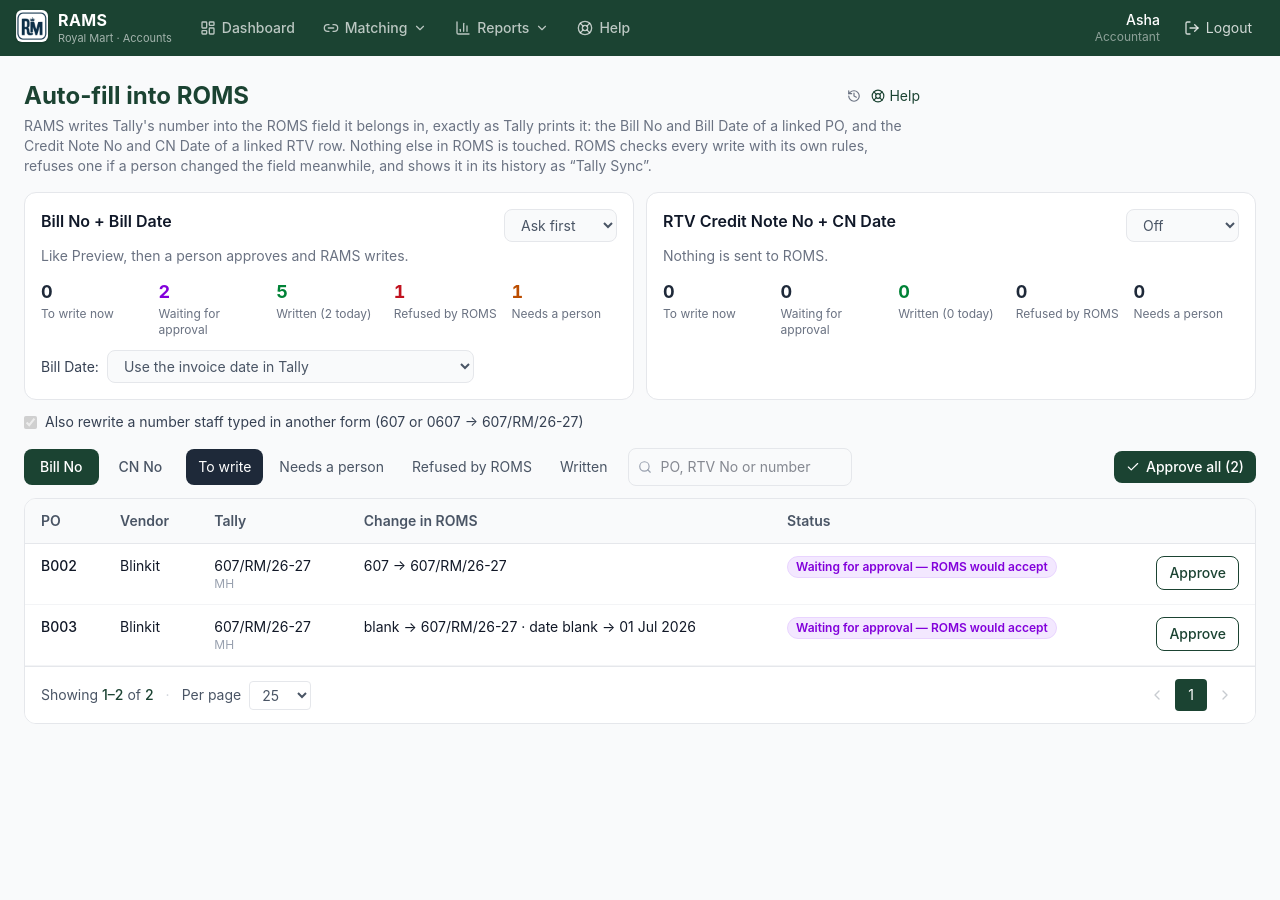
Auto-fill › a refusal shows ROMS's words and can be tried again; Written says who approved
The width and height of the screenshot is (1280, 900).
Click the tab "Refused by ROMS". click: coordinates (472, 467)
box: [400, 449, 544, 485]
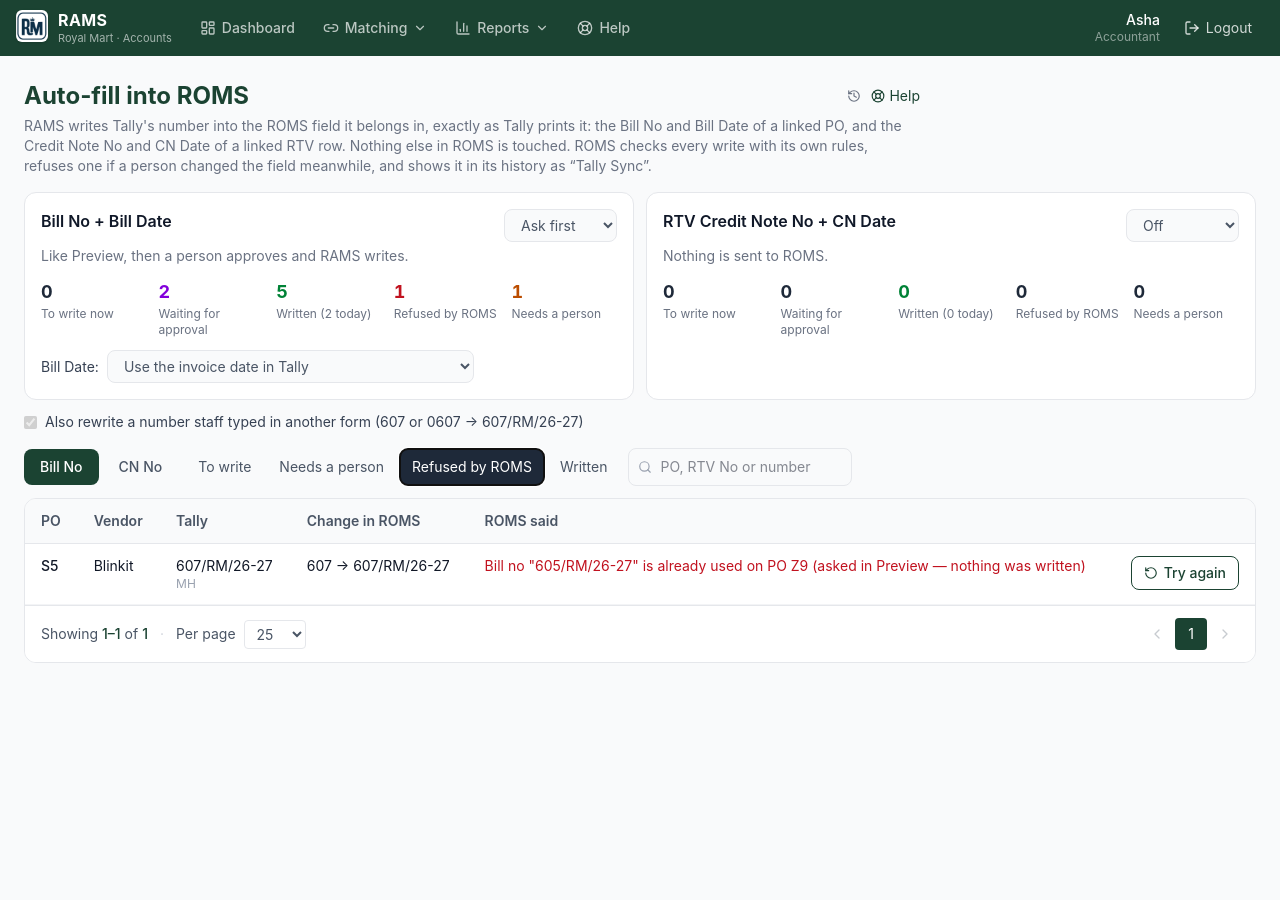
Now the text "already used on PO Z9 (asked in Preview — nothing was written)" is shown, box [485, 557, 1086, 574]
Click the button "Try again". click: coordinates (1185, 573)
box: [1131, 556, 1239, 590]
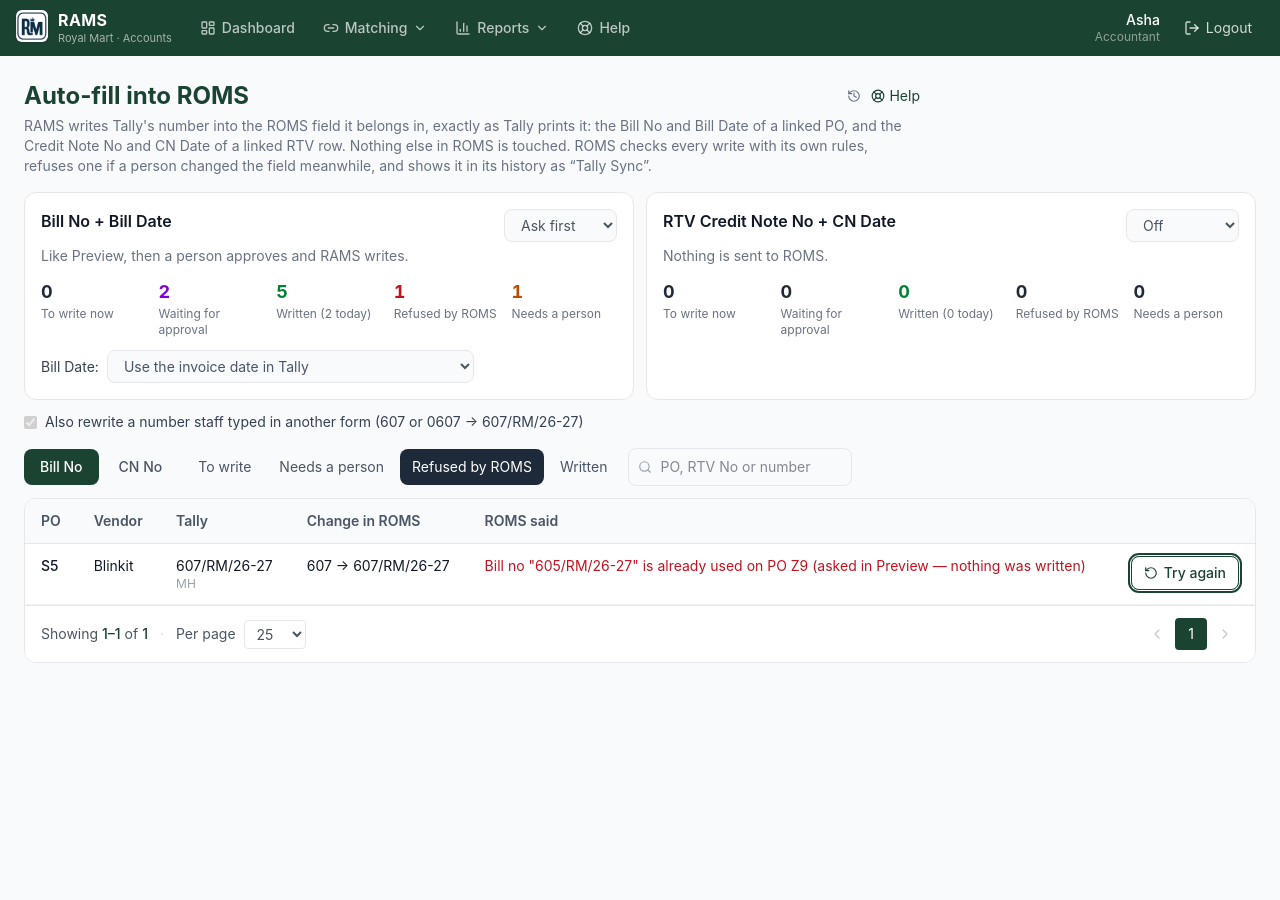
Click the tab "Written". click: coordinates (584, 467)
box: [548, 449, 620, 485]
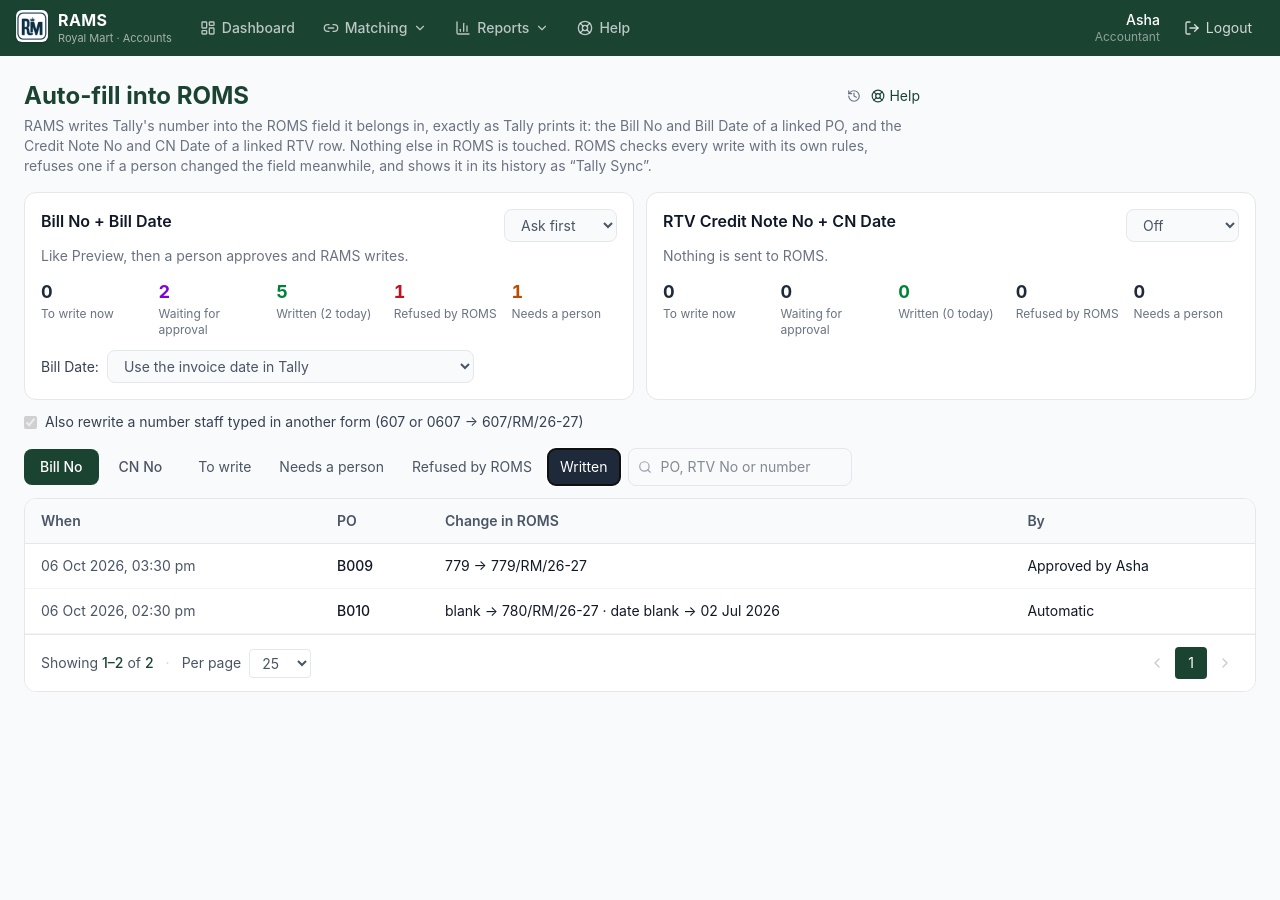
Now the cell "Approved by Asha" is shown, box [1011, 544, 1255, 588]
Now the cell "Automatic" is shown, box [1011, 588, 1255, 634]
